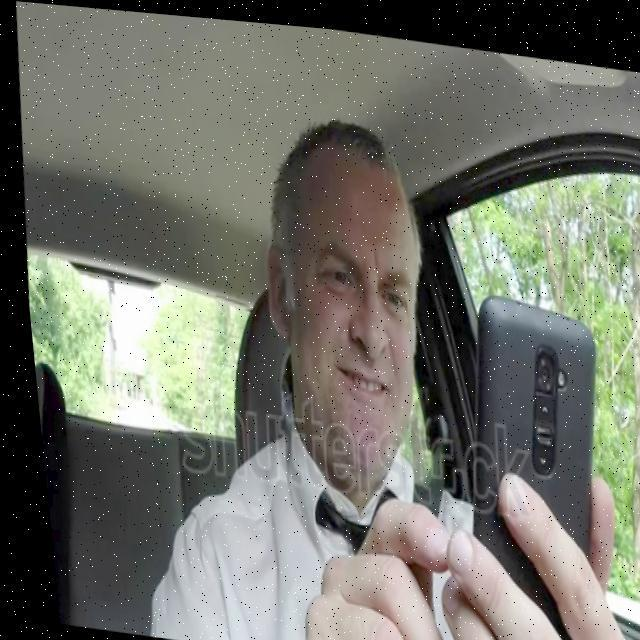PhoneCall: (444, 282, 618, 640)
